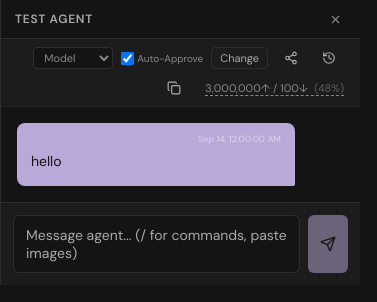
AgentPanel context-first token meter › labels cumulative input and shows the compaction threshold
Click the text "3,000,000↑ / 100↓(48%)" at [275, 88], box left=205, top=81, right=344, bottom=96
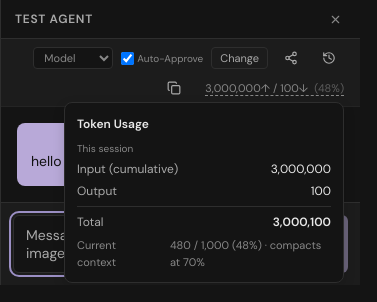
Check: the text "Input (cumulative)" is shown, box left=77, top=160, right=178, bottom=178
Check: the text "480 / 1,000 (48%) · compacts at 70%" is shown, box left=170, top=237, right=331, bottom=270
